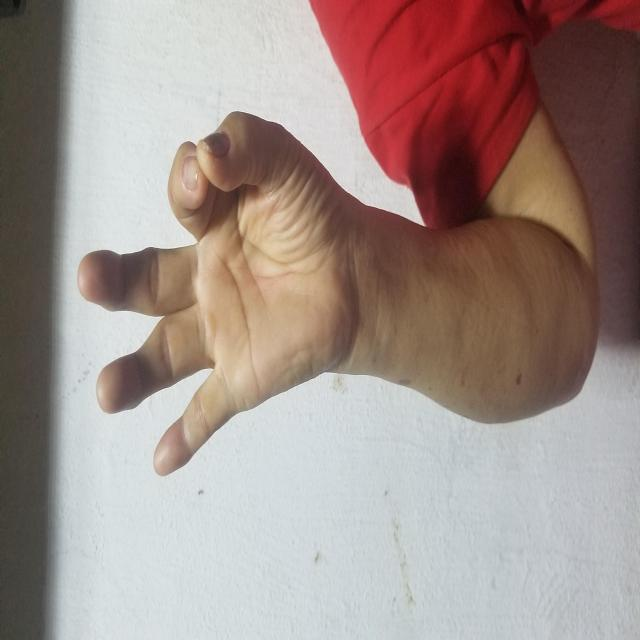F: (163, 75, 532, 349)
